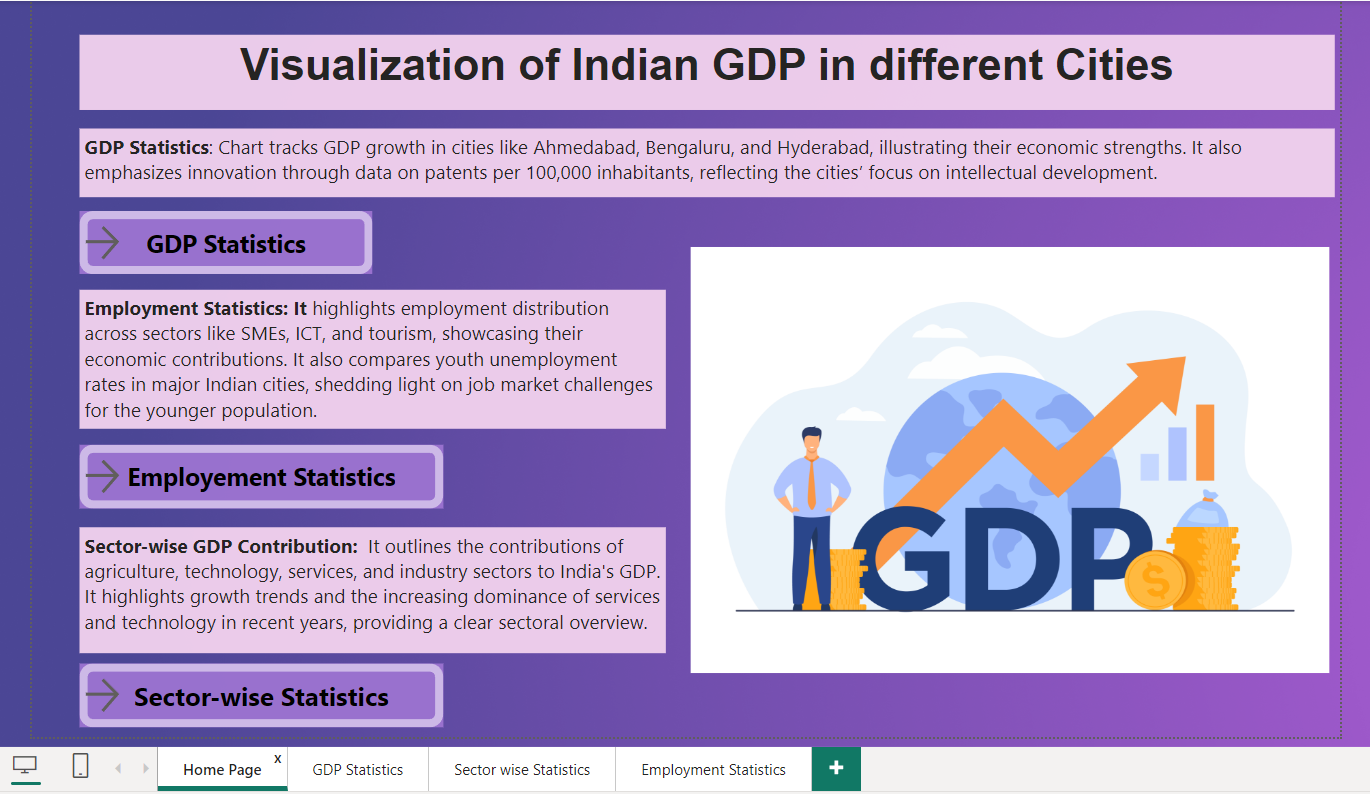

The dashboard page shown, as its layout file describes it:
{"tool":"powerbi","page":{"name":"Home Page","canvas":[1280,720],"ordinal":0},"visuals":[{"type":"actionButton","box":[728.8,399.9,287.4,57.5],"z":0},{"type":"actionButton","title":"Employement Statistics","box":[46.5,434.1,355.8,62.4],"z":2000},{"type":"textbox","box":[46.5,33,1227.7,73.4],"z":3000},{"type":"image","box":[639.5,205.4,634.7,487.9],"z":4000},{"type":"textbox","box":[46.5,124.7,1227.7,67.3],"z":4001},{"type":"textbox","box":[46.5,282.5,573.5,135.7],"z":4002},{"type":"textbox","box":[46.5,514.8,573.5,123.5],"z":4003},{"type":"actionButton","title":"Employement Statistics","box":[46.7,205.8,286.8,61.7],"z":4004},{"type":"actionButton","title":"Employement Statistics","box":[46.5,648.1,355.8,62.4],"z":4005}]}

Visuals, with their boxes in screenshot pixels (x1, y1, x2, y2):
actionButton: bbox=(774, 407, 1067, 466)
"Employement Statistics" actionButton: bbox=(79, 442, 442, 505)
textbox: bbox=(79, 34, 1329, 108)
image: bbox=(683, 209, 1329, 706)
textbox: bbox=(79, 127, 1329, 195)
textbox: bbox=(79, 288, 663, 426)
textbox: bbox=(79, 524, 663, 650)
"Employement Statistics" actionButton: bbox=(80, 210, 372, 272)
"Employement Statistics" actionButton: bbox=(79, 660, 442, 723)
